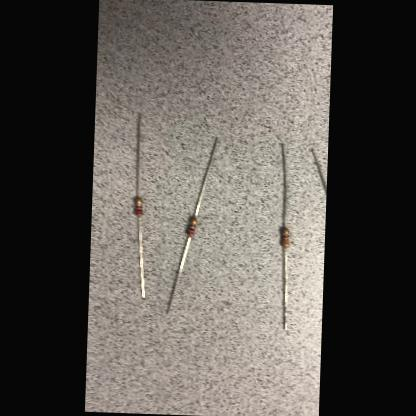resistor: (279, 226, 289, 247), (186, 217, 197, 236), (133, 197, 143, 216)
wire: (164, 236, 191, 314), (193, 136, 217, 218), (134, 216, 147, 297), (308, 148, 327, 194), (278, 143, 288, 226), (134, 113, 142, 196), (280, 248, 288, 329)
